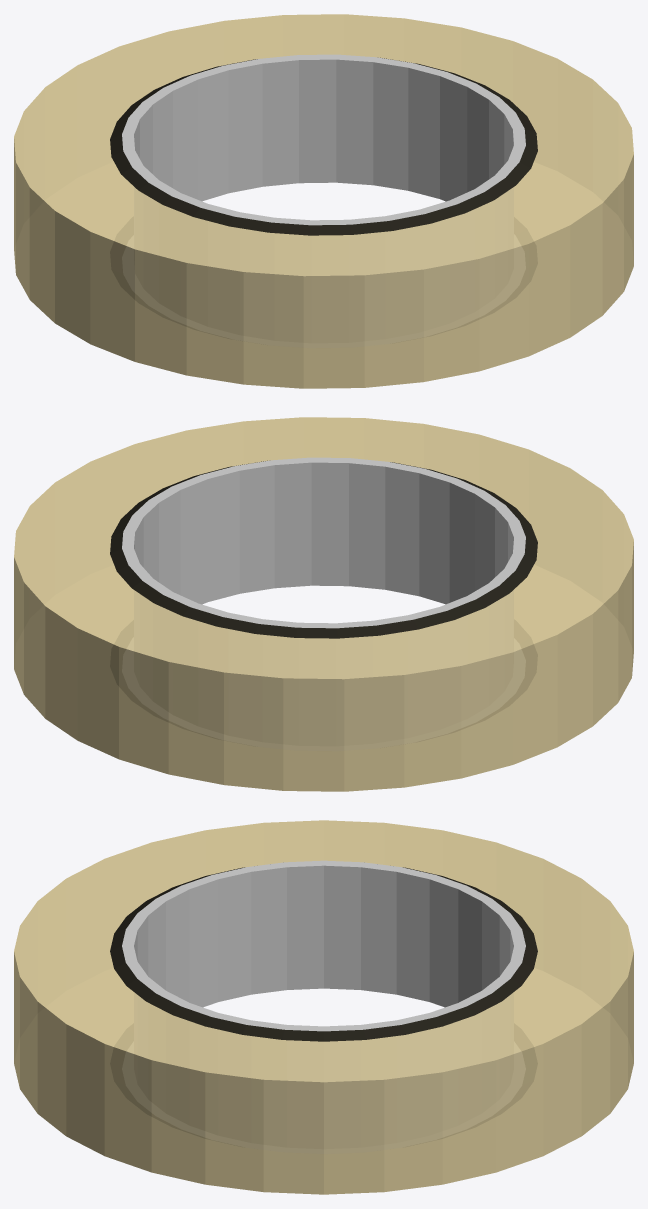
File: Fita Adesiva.fbx
3 views of the same model, one above another, from view 1: azimuth 30°, elevation 25°; view 2: azimuth 150°, elevation 25°; view 3: azimuth 270°, elevation 25° (orthographic).
Parts seen in each view (by area): view 1: Cylinder; view 2: Cylinder; view 3: Cylinder.
Part boxes in pixels (<box>): Cylinder: <box>14,14,633,388</box>; Cylinder: <box>14,417,633,791</box>; Cylinder: <box>14,820,633,1194</box>.
Size of the model in its own units: 200 by 43.73 by 200.
